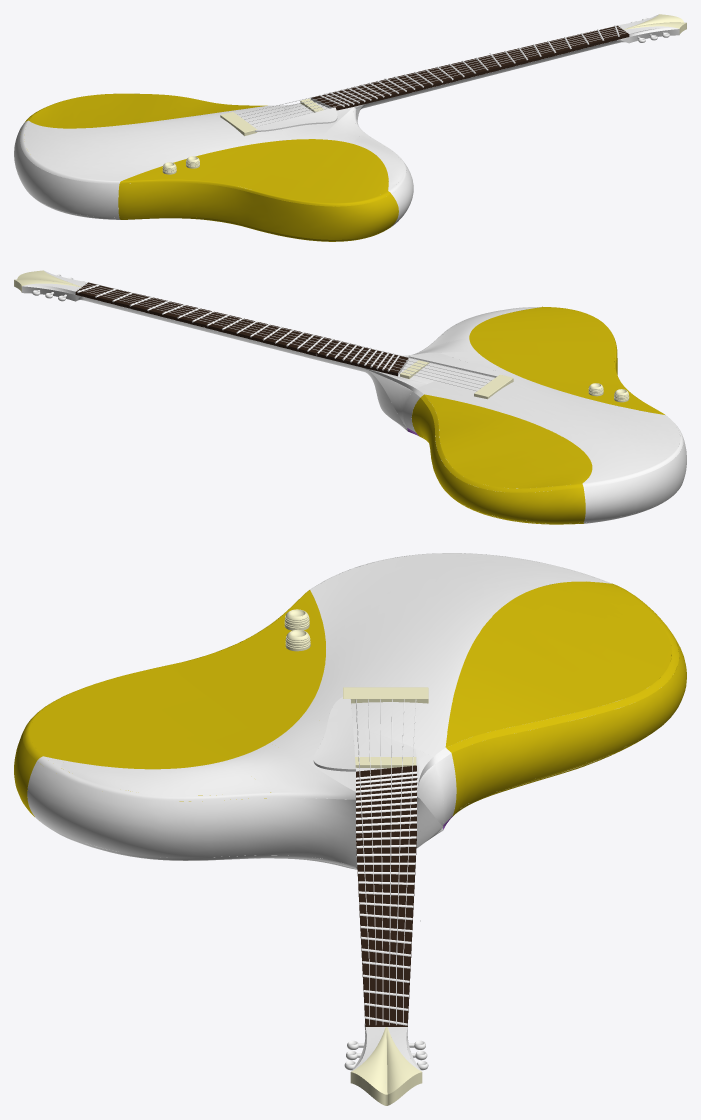
Rendered from guitar2.glb.
3 renders of one model, top to bottom at view 1: azimuth 30°, elevation 25°; view 2: azimuth 150°, elevation 25°; view 3: azimuth 270°, elevation 25°, orthographic. The views are drawn at different scales.
Visible parts, largest first — view 1: Shell (×19); view 2: Shell (×19); view 3: Shell (×21).
Part boxes in pixels (box(x1,y1,x2,y2)): Shell (×19): box(14, 25, 629, 241); Shell (×19): box(75, 282, 686, 522); Shell (×21): box(14, 553, 686, 1094).
Bounding box in the file's own units: 1.09 × 0.0858 × 0.5663.
7 materials, 1 textured.
